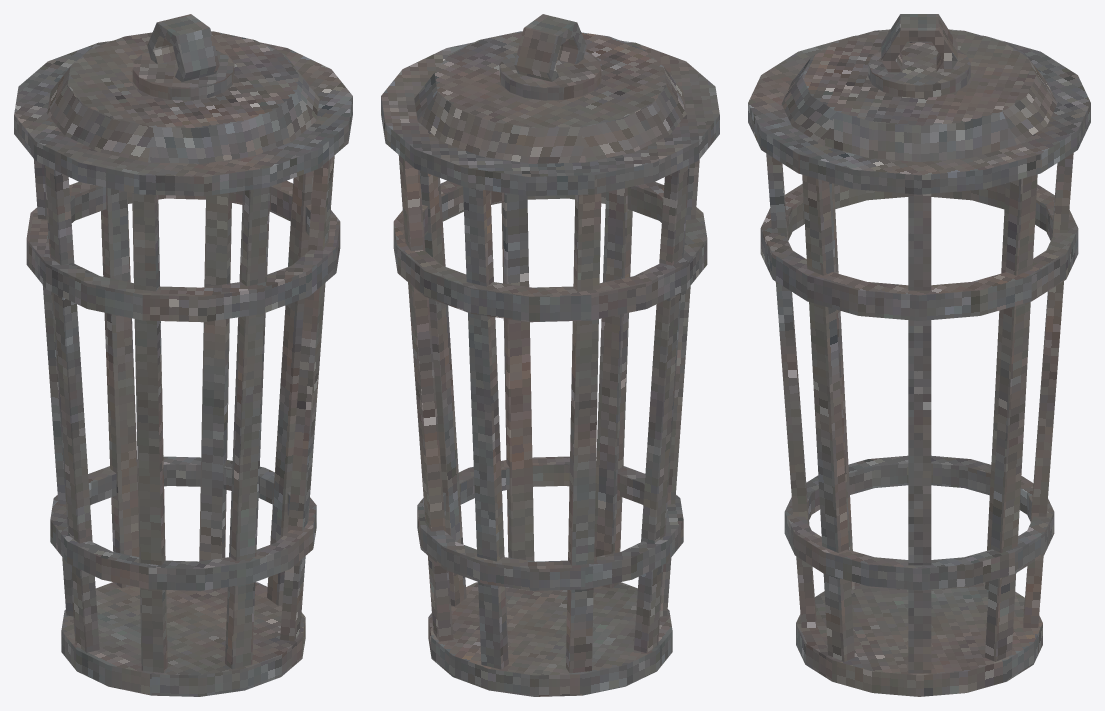
Rendered from Cage_4.gltf.
3 renders of one model, left to right at view 1: azimuth 30°, elevation 25°; view 2: azimuth 150°, elevation 25°; view 3: azimuth 270°, elevation 25°, orthographic.
Visible parts, largest first — view 1: Cage_4; view 2: Cage_4; view 3: Cage_4.
Part boxes in pixels (x1,y1,x2,y2): Cage_4: [14, 14, 352, 696]; Cage_4: [381, 14, 719, 696]; Cage_4: [748, 14, 1090, 696].
Bounding box in the file's own units: 2.73 × 5.48 × 2.73.
Materials: 1 (1 with a texture image).
